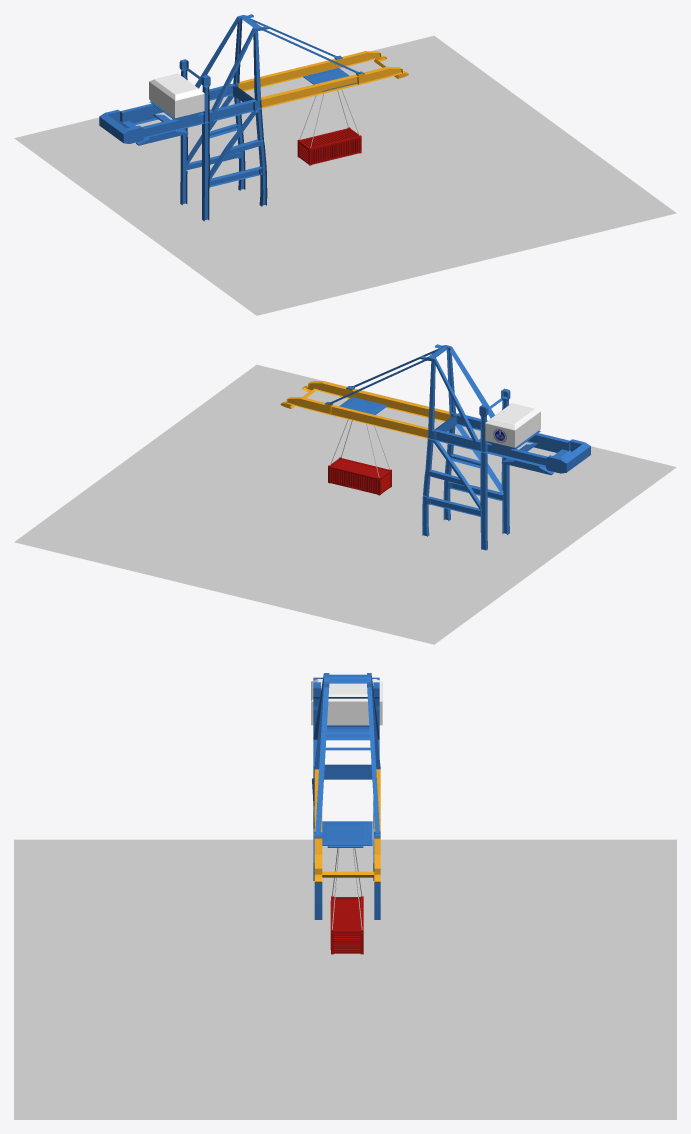
File: krain.glb
3 views of the same model, one above another, from view 1: azimuth 30°, elevation 25°; view 2: azimuth 150°, elevation 25°; view 3: azimuth 270°, elevation 25° (orthographic). The views are drawn at different scales.
Parts seen in each view (by area): view 1: Plane, Krain, container new.002, Plane.001; view 2: Plane, Krain, container new.002, Plane.001; view 3: Plane, Krain, container new.002, Plane.001.
Part boxes in pixels (left/top/right/bottom): Plane: left=14, top=36, right=676, bottom=315; Krain: left=99, top=14, right=408, bottom=221; container new.002: left=297, top=127, right=361, bottom=165; Plane.001: left=303, top=67, right=357, bottom=91; Plane: left=14, top=364, right=676, bottom=644; Krain: left=280, top=344, right=590, bottom=550; container new.002: left=328, top=457, right=391, bottom=495; Plane.001: left=339, top=396, right=387, bottom=414; Plane: left=14, top=839, right=676, bottom=1119; Krain: left=311, top=673, right=382, bottom=919; container new.002: left=330, top=896, right=363, bottom=954; Plane.001: left=322, top=821, right=372, bottom=847.
Size of the model in its own units: 15.16 by 6.05 by 14.35.
Materials: 4 (1 with a texture image).
